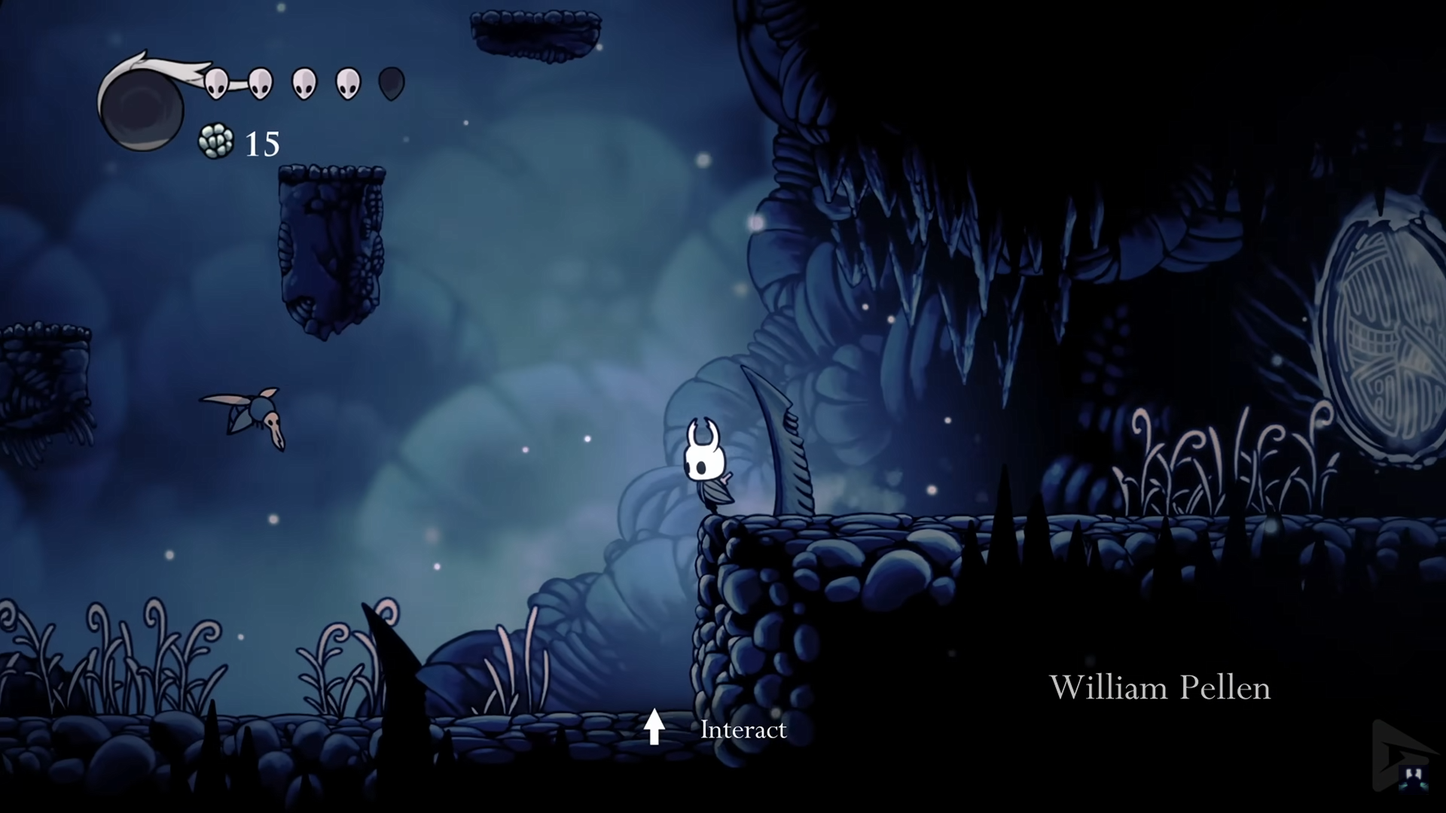HK: (678, 410, 734, 516)
